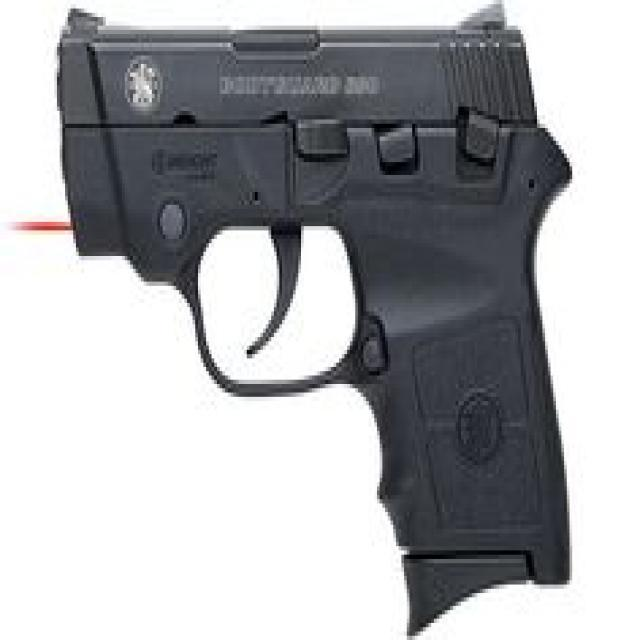semi automatic: (53, 1, 593, 640)
